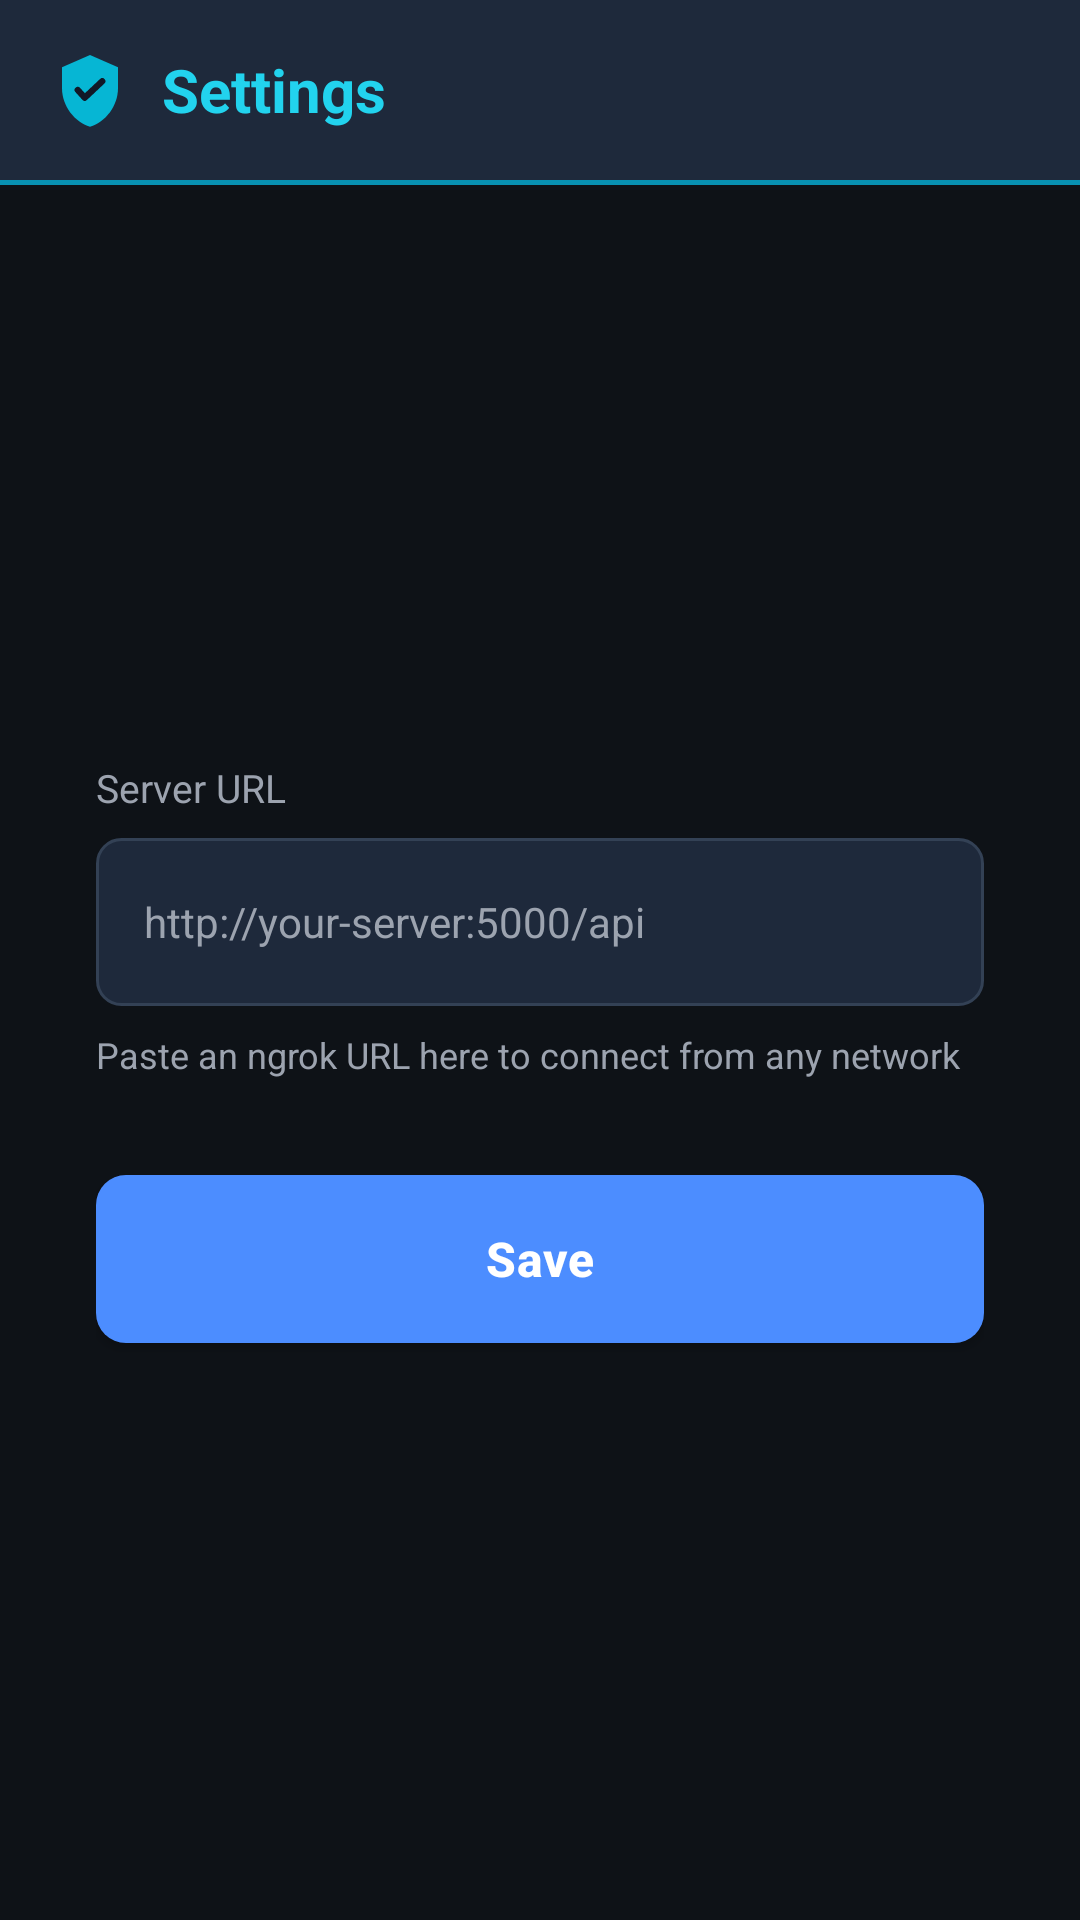

Icon bounding boxes for this 1080×1920 phone screenshot, format BBox(x1, y1, x2, y2):
shield: BBox(62, 55, 118, 127)
